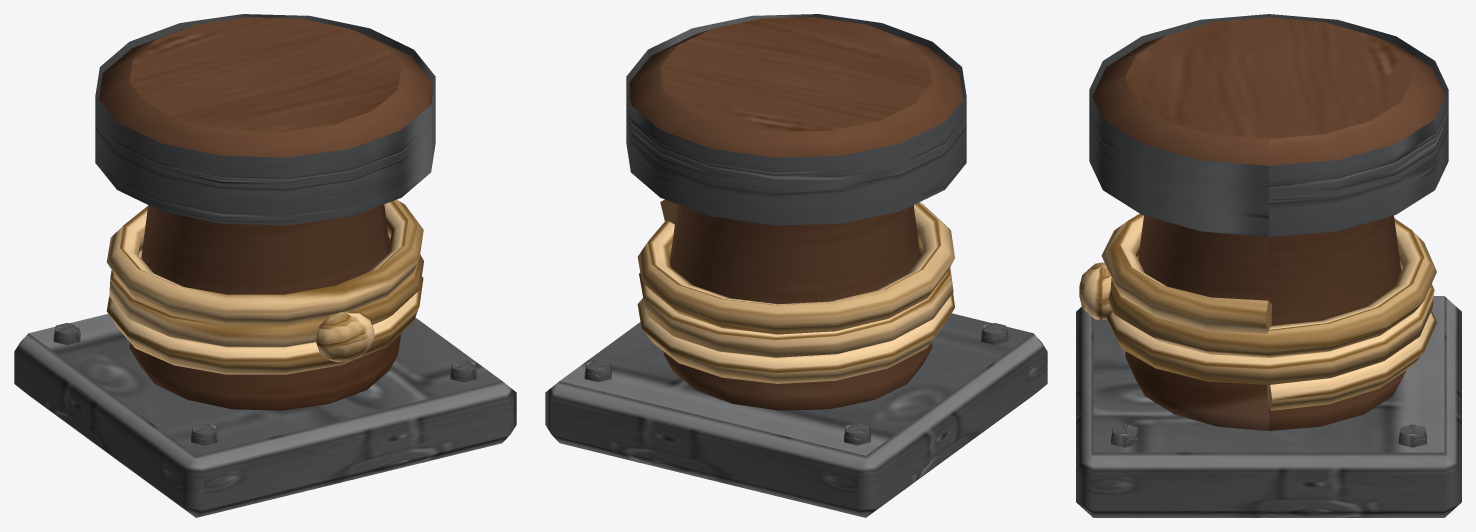
The model's file is SM_Bollard.glb.
3 renders of one model, left to right at view 1: azimuth 30°, elevation 25°; view 2: azimuth 150°, elevation 25°; view 3: azimuth 270°, elevation 25°, orthographic. The views are drawn at different scales.
Visible parts, largest first — view 1: SM_Bollard; view 2: SM_Bollard; view 3: SM_Bollard.
Boxes of the visible parts, x1,y1,x2,y2 form: SM_Bollard: [14, 14, 516, 517]; SM_Bollard: [545, 14, 1047, 517]; SM_Bollard: [1076, 14, 1461, 517].
Bounding box in the file's own units: 0.62 × 0.61 × 0.59.
Materials: 1 (1 with a texture image).
